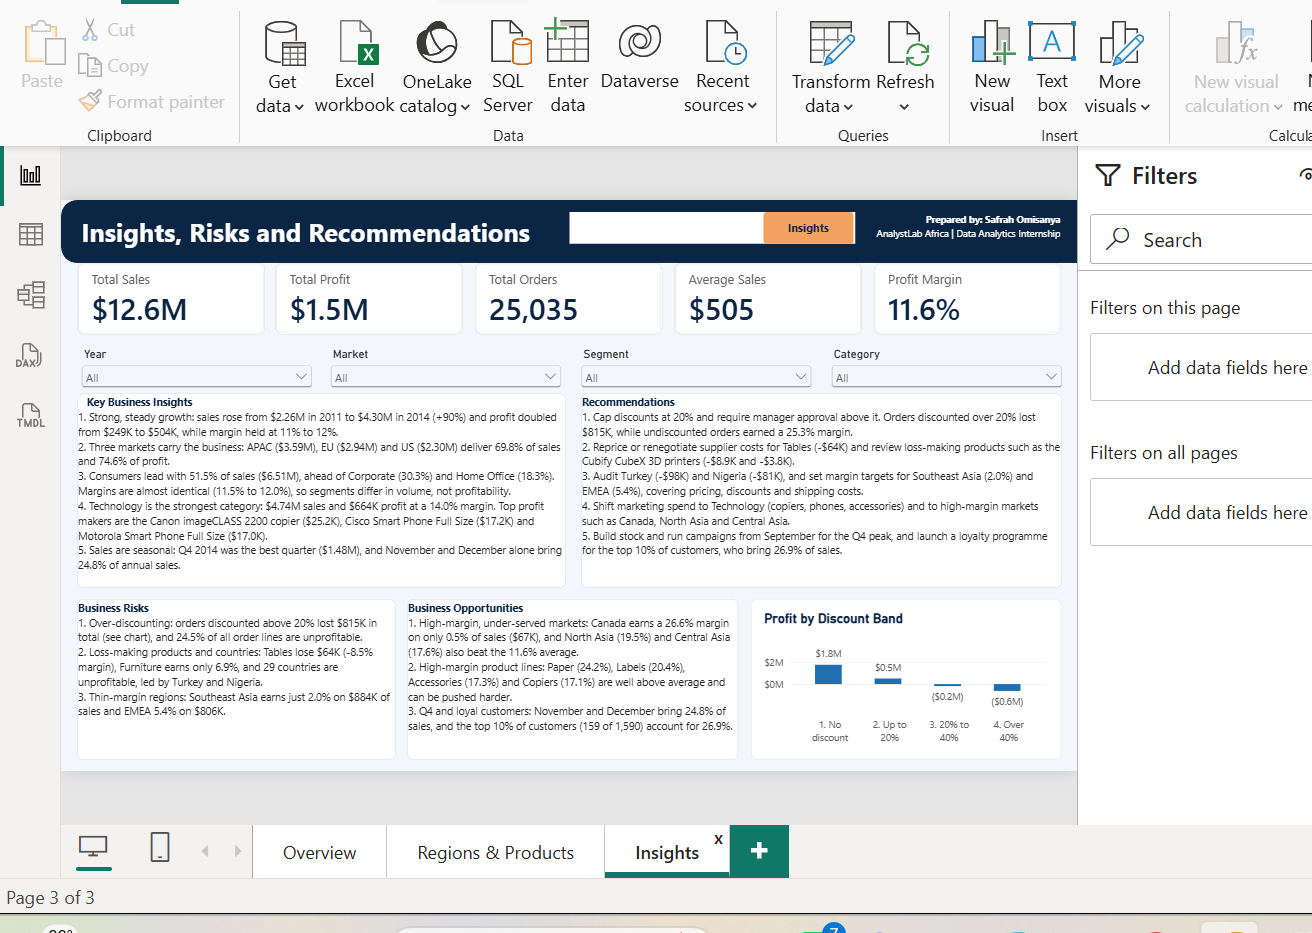

This screenshot's page, from the dashboard's own definition file:
{"tool":"powerbi","page":{"name":"Insights ","canvas":[1280,720],"ordinal":2},"visuals":[{"type":"shape","box":[0,0,1919.1,79.4],"z":0},{"type":"cardVisual","fields":{"Data":["Orders.Total Sales"]},"box":[20,79.4,236,90],"z":1000},{"type":"cardVisual","fields":{"Data":["Orders.Total Profit"]},"box":[271,79.4,236,90],"z":2000},{"type":"cardVisual","fields":{"Data":["Orders.Total Orders"]},"box":[522,79.4,236,90],"z":3000},{"type":"cardVisual","fields":{"Data":["Orders.Average Sales"]},"box":[773,79.4,236,90],"z":4000},{"type":"cardVisual","fields":{"Data":["Orders.Profit Margin"]},"box":[1024,79.4,236,90],"z":5000},{"type":"slicer","fields":{"Values":["Calendar.Year"]},"box":[20,185,300,60],"z":6000},{"type":"slicer","fields":{"Values":["Orders.Market"]},"box":[335,185.2,300,60],"z":7000},{"type":"slicer","fields":{"Values":["Orders.Segment"]},"box":[650,185.2,300,60],"z":8000},{"type":"slicer","fields":{"Values":["Orders.Category"]},"box":[965,185.2,300,60],"z":9000},{"type":"clusteredColumnChart","title":"Profit by Discount Band","fields":{"Category":["Orders.Discount Band"],"Y":["Orders.Total Profit"]},"box":[869.8,503.1,390.8,202.4],"z":10000},{"type":"textbox","box":[20,244.5,615.3,244.5],"z":11000},{"type":"textbox","box":[655.4,244.5,605.3,244.5],"z":12000},{"type":"textbox","box":[20,503.1,400.8,202.4],"z":13000},{"type":"textbox","box":[436.9,503.1,416.9,202.4],"z":14000},{"type":"pageNavigator","box":[640,15,360,40],"z":14001},{"type":"textbox","box":[100,100,300,300],"z":14002},{"type":"textbox","box":[1010,14,250,44],"z":14003}]}

Visuals, with their boxes on the page's 1280x720 design canvas (x1, y1, x2, y2). These are canvas units, not pixel positions in the 1312x933 screenshot, which may show the page scaled, cropped or inside an application window:
shape: select_region(0, 0, 1919, 79)
cardVisual - Orders.Total Sales: select_region(20, 79, 256, 169)
cardVisual - Orders.Total Profit: select_region(271, 79, 507, 169)
cardVisual - Orders.Total Orders: select_region(522, 79, 758, 169)
cardVisual - Orders.Average Sales: select_region(773, 79, 1009, 169)
cardVisual - Orders.Profit Margin: select_region(1024, 79, 1260, 169)
slicer - Calendar.Year: select_region(20, 185, 320, 245)
slicer - Orders.Market: select_region(335, 185, 635, 245)
slicer - Orders.Segment: select_region(650, 185, 950, 245)
slicer - Orders.Category: select_region(965, 185, 1265, 245)
"Profit by Discount Band" clusteredColumnChart: select_region(870, 503, 1261, 706)
textbox: select_region(20, 244, 635, 489)
textbox: select_region(655, 244, 1261, 489)
textbox: select_region(20, 503, 421, 706)
textbox: select_region(437, 503, 854, 706)
pageNavigator: select_region(640, 15, 1000, 55)
textbox: select_region(100, 100, 400, 400)
textbox: select_region(1010, 14, 1260, 58)
